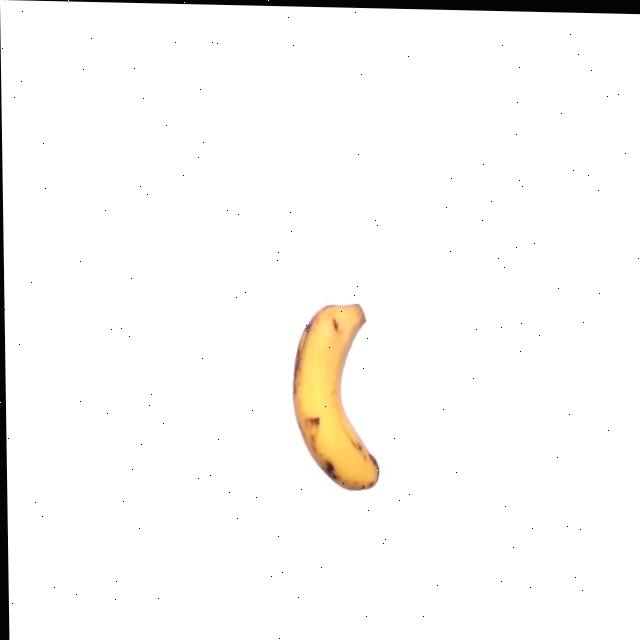banana: (289, 298, 382, 495)
